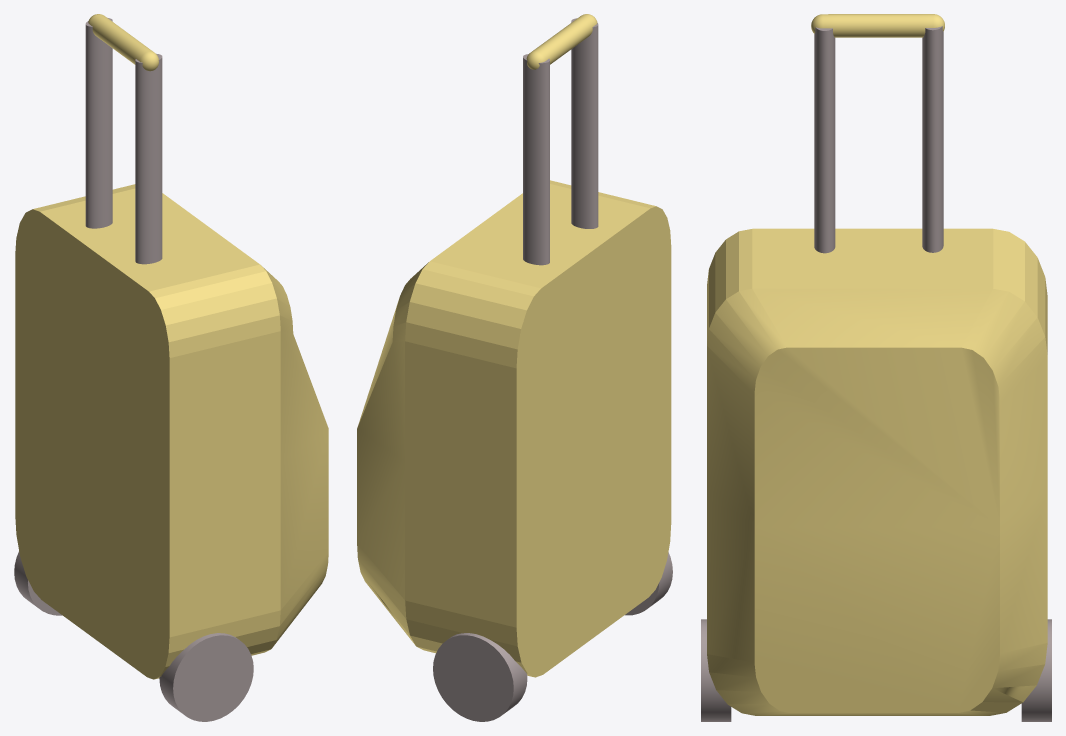
The model's file is kofer4.fbx.
3 views of the same model, side by side, from view 1: azimuth 30°, elevation 25°; view 2: azimuth 150°, elevation 25°; view 3: azimuth 270°, elevation 25° (orthographic). The views are drawn at different scales.
Parts seen in each view (by area): view 1: Cube_1, Cylinder, Cylinder_1, Cylinder_2, Capsule, Cylinder_3; view 2: Cube_1, Cylinder_3, Cylinder_2, Cylinder_1, Capsule, Cylinder; view 3: Cube_1, Cylinder_1, Cylinder_2, Capsule, Cylinder_3, Cylinder.
Boxes of the visible parts, bbox=[...] form: Cube_1: bbox=[15, 184, 328, 679]; Cylinder: bbox=[159, 633, 253, 721]; Cylinder_1: bbox=[135, 53, 162, 264]; Cylinder_2: bbox=[85, 18, 112, 228]; Capsule: bbox=[88, 14, 158, 71]; Cylinder_3: bbox=[14, 551, 62, 615]; Cube_1: bbox=[357, 180, 671, 677]; Cylinder_3: bbox=[433, 633, 527, 721]; Cylinder_2: bbox=[523, 54, 549, 265]; Cylinder_1: bbox=[571, 18, 598, 228]; Capsule: bbox=[526, 14, 597, 69]; Cylinder: bbox=[625, 552, 672, 615]; Cube_1: bbox=[707, 228, 1047, 715]; Cylinder_1: bbox=[814, 27, 835, 253]; Cylinder_2: bbox=[922, 26, 943, 252]; Capsule: bbox=[811, 14, 944, 37]; Cylinder_3: bbox=[1021, 619, 1051, 721]; Cylinder: bbox=[701, 619, 731, 721].
Bounding box in the file's own units: 108 × 359 × 164.
